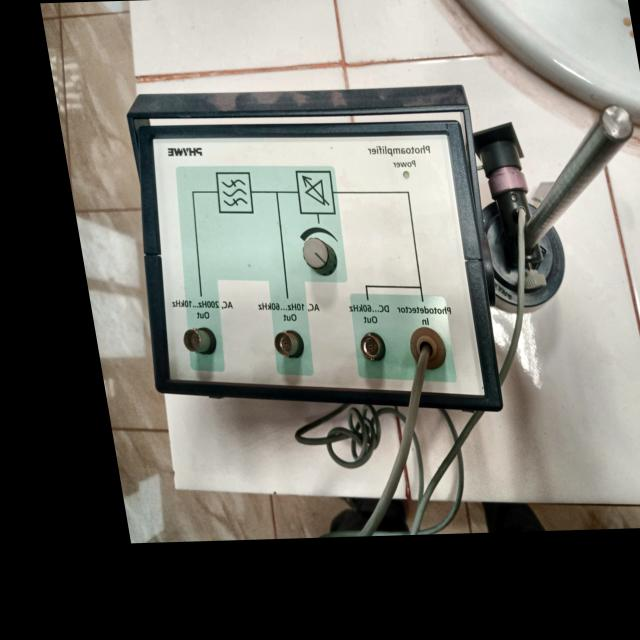Photo Amplifier Power Supply: (91, 62, 640, 444)
